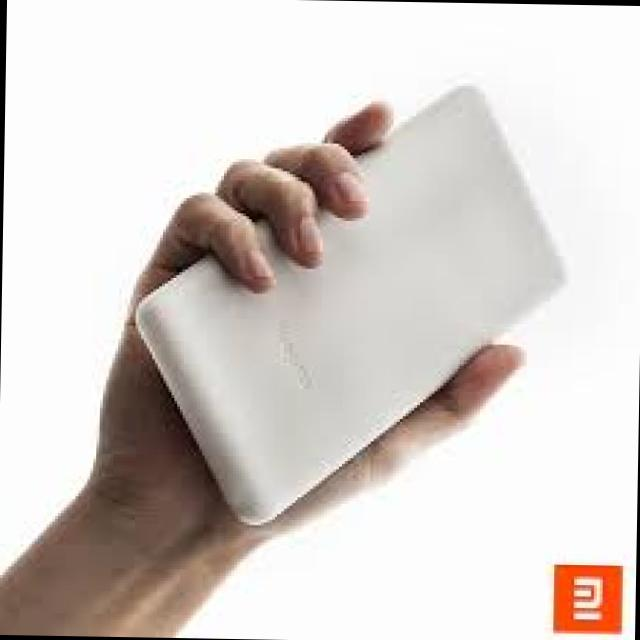power_bank: (120, 65, 574, 528)
